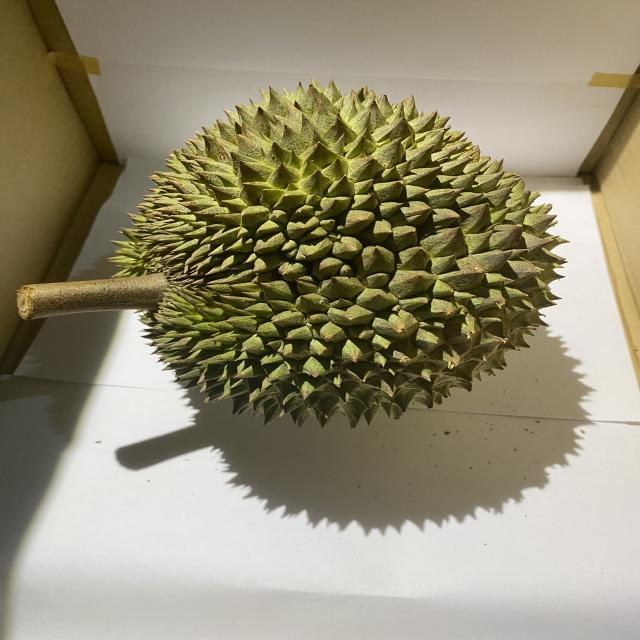immature: (106, 78, 572, 430)
